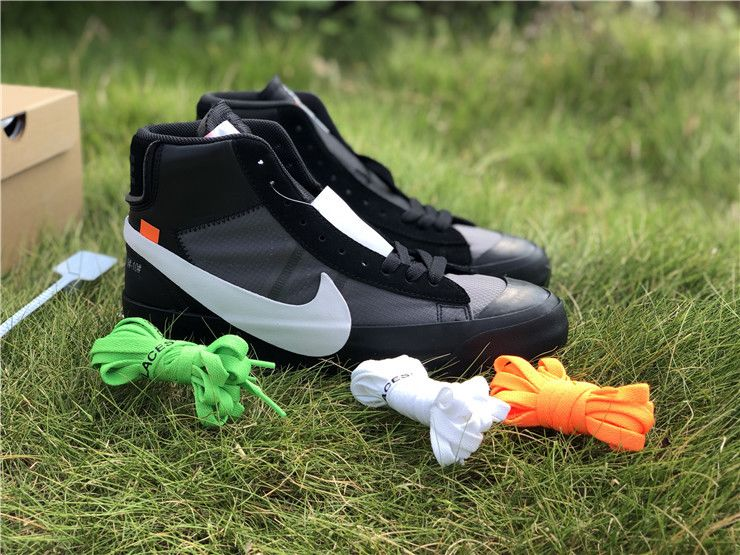Nike Blazer Grim Reaper: (103, 97, 576, 368)
